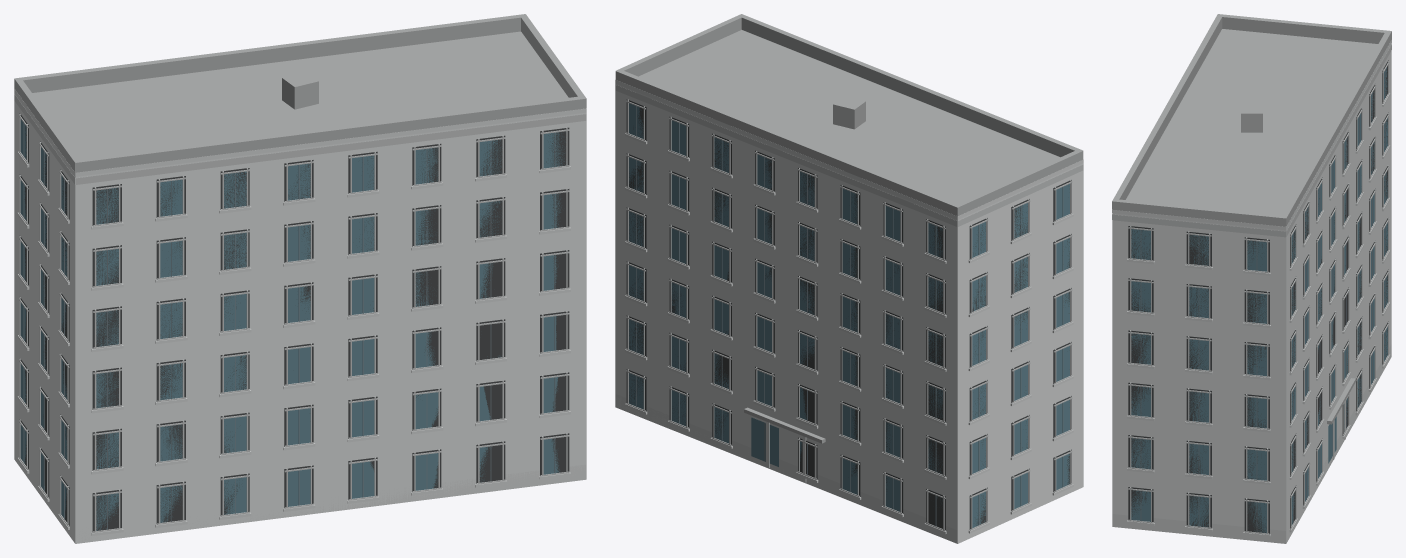
The model's file is cop_escritorio_clinica_02__way_1041756191.fbx.
3 renders of one model, left to right at view 1: azimuth 30°, elevation 25°; view 2: azimuth 150°, elevation 25°; view 3: azimuth 270°, elevation 25°, orthographic. The views are drawn at different scales.
Parts seen in each view (by area): view 1: cop_escritorio_clinica_02__way_1041756191_wall, cop_escritorio_clinica_02__way_1041756191_roof, cop_escritorio_clinica_02__way_1041756191_glass, cop_escritorio_clinica_02__way_1041756191_shadow, cop_escritorio_clinica_02__way_1041756191_trim, cop_escritorio_clinica_02__way_1041756191_stone, cop_escritorio_clinica_02__way_1041756191_metal; view 2: cop_escritorio_clinica_02__way_1041756191_wall, cop_escritorio_clinica_02__way_1041756191_roof, cop_escritorio_clinica_02__way_1041756191_glass, cop_escritorio_clinica_02__way_1041756191_shadow, cop_escritorio_clinica_02__way_1041756191_trim, cop_escritorio_clinica_02__way_1041756191_stone, cop_escritorio_clinica_02__way_1041756191_metal; view 3: cop_escritorio_clinica_02__way_1041756191_wall, cop_escritorio_clinica_02__way_1041756191_roof, cop_escritorio_clinica_02__way_1041756191_glass, cop_escritorio_clinica_02__way_1041756191_shadow, cop_escritorio_clinica_02__way_1041756191_trim, cop_escritorio_clinica_02__way_1041756191_stone, cop_escritorio_clinica_02__way_1041756191_metal.
Boxes of the visible parts, box(x1,y1,x2,y2) form: cop_escritorio_clinica_02__way_1041756191_wall: box(14, 93, 586, 543); cop_escritorio_clinica_02__way_1041756191_roof: box(14, 14, 586, 172); cop_escritorio_clinica_02__way_1041756191_glass: box(20, 119, 566, 530); cop_escritorio_clinica_02__way_1041756191_shadow: box(19, 113, 569, 532); cop_escritorio_clinica_02__way_1041756191_trim: box(14, 94, 586, 532); cop_escritorio_clinica_02__way_1041756191_stone: box(14, 89, 586, 543); cop_escritorio_clinica_02__way_1041756191_metal: box(23, 123, 555, 529); cop_escritorio_clinica_02__way_1041756191_wall: box(615, 83, 1083, 543); cop_escritorio_clinica_02__way_1041756191_roof: box(615, 14, 1083, 443); cop_escritorio_clinica_02__way_1041756191_glass: box(629, 103, 1069, 528); cop_escritorio_clinica_02__way_1041756191_shadow: box(626, 99, 1071, 530); cop_escritorio_clinica_02__way_1041756191_trim: box(615, 85, 1083, 531); cop_escritorio_clinica_02__way_1041756191_stone: box(615, 79, 1083, 543); cop_escritorio_clinica_02__way_1041756191_metal: box(636, 106, 1063, 526); cop_escritorio_clinica_02__way_1041756191_wall: box(1112, 44, 1391, 543); cop_escritorio_clinica_02__way_1041756191_roof: box(1112, 14, 1391, 424); cop_escritorio_clinica_02__way_1041756191_glass: box(1131, 67, 1387, 533); cop_escritorio_clinica_02__way_1041756191_shadow: box(1128, 60, 1388, 534); cop_escritorio_clinica_02__way_1041756191_trim: box(1112, 44, 1391, 534); cop_escritorio_clinica_02__way_1041756191_stone: box(1112, 40, 1391, 543); cop_escritorio_clinica_02__way_1041756191_metal: box(1140, 69, 1385, 532).
Bounding box in the file's own units: 2518 × 1912 × 1456.
